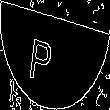P_N: (41, 26, 69, 84)
